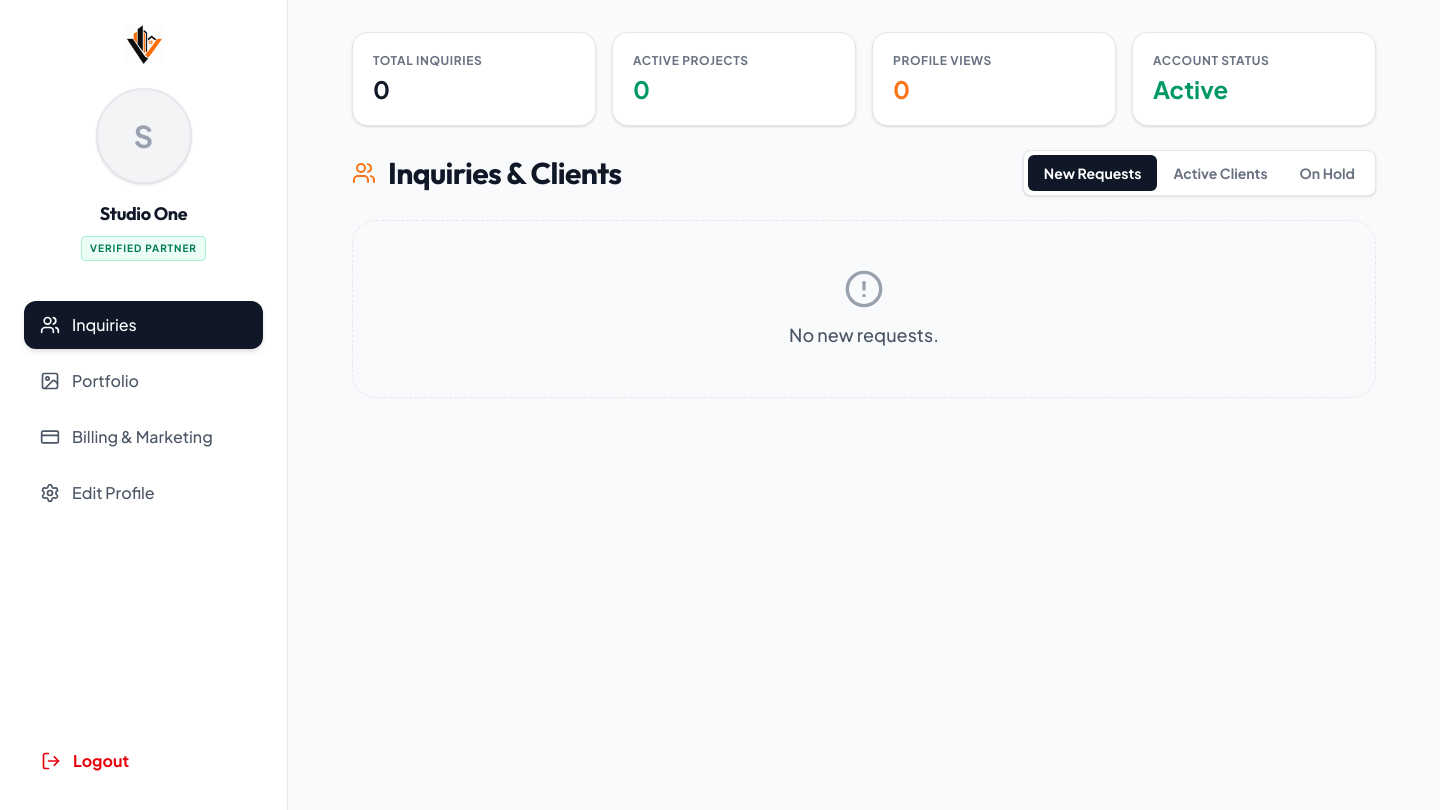
Test: existing full designer profile editor inside the dashboard › shows the compact review status only on the Profile tab and removes it after verification
Later steps or results of the test are not shown.
Check: the heading "Inquiries & Clients" is shown, box [352,155,621,191]
Check: the heading "Professional Profile Under Review" is not shown
Click the button "Edit Profile" at [144, 493], box [24,469,263,517]
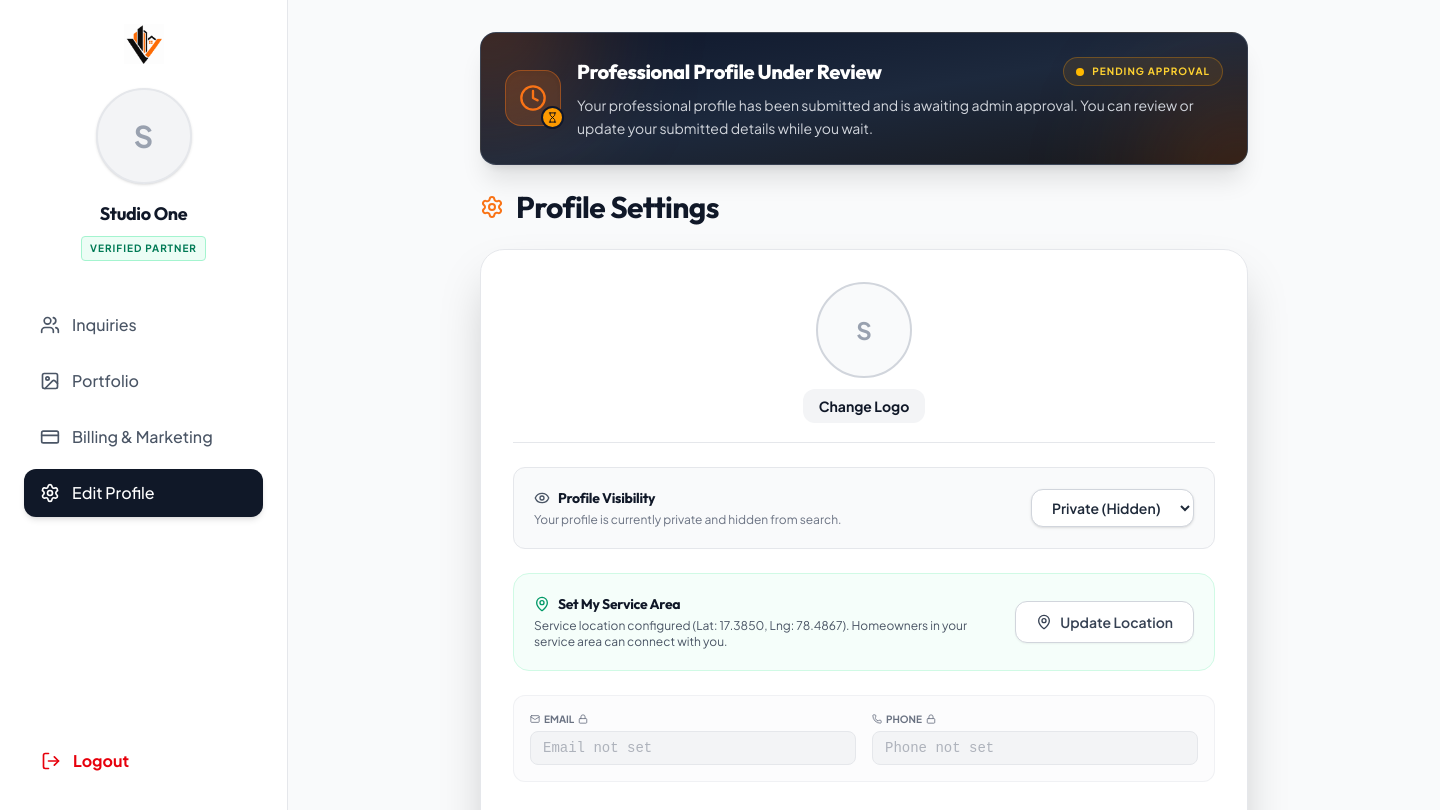
Check: the heading "Professional Profile Under Review" is shown, box [577,58,882,86]
Click the button "Portfolio" at [144, 381], box [24,357,263,405]
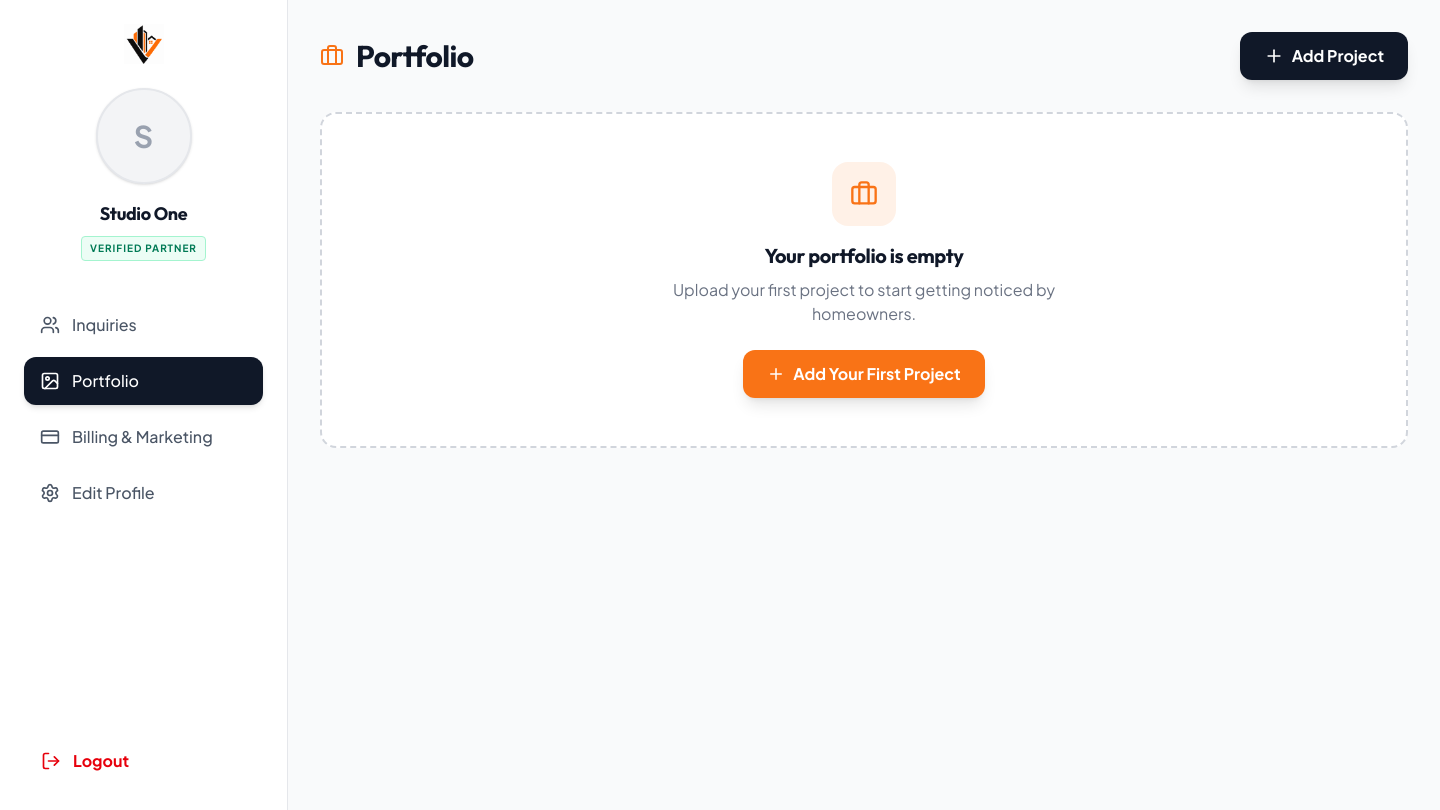
Check: the heading "Professional Profile Under Review" is gone
Click the button "Edit Profile" at [144, 493], box [24,469,263,517]
(page scrolled)
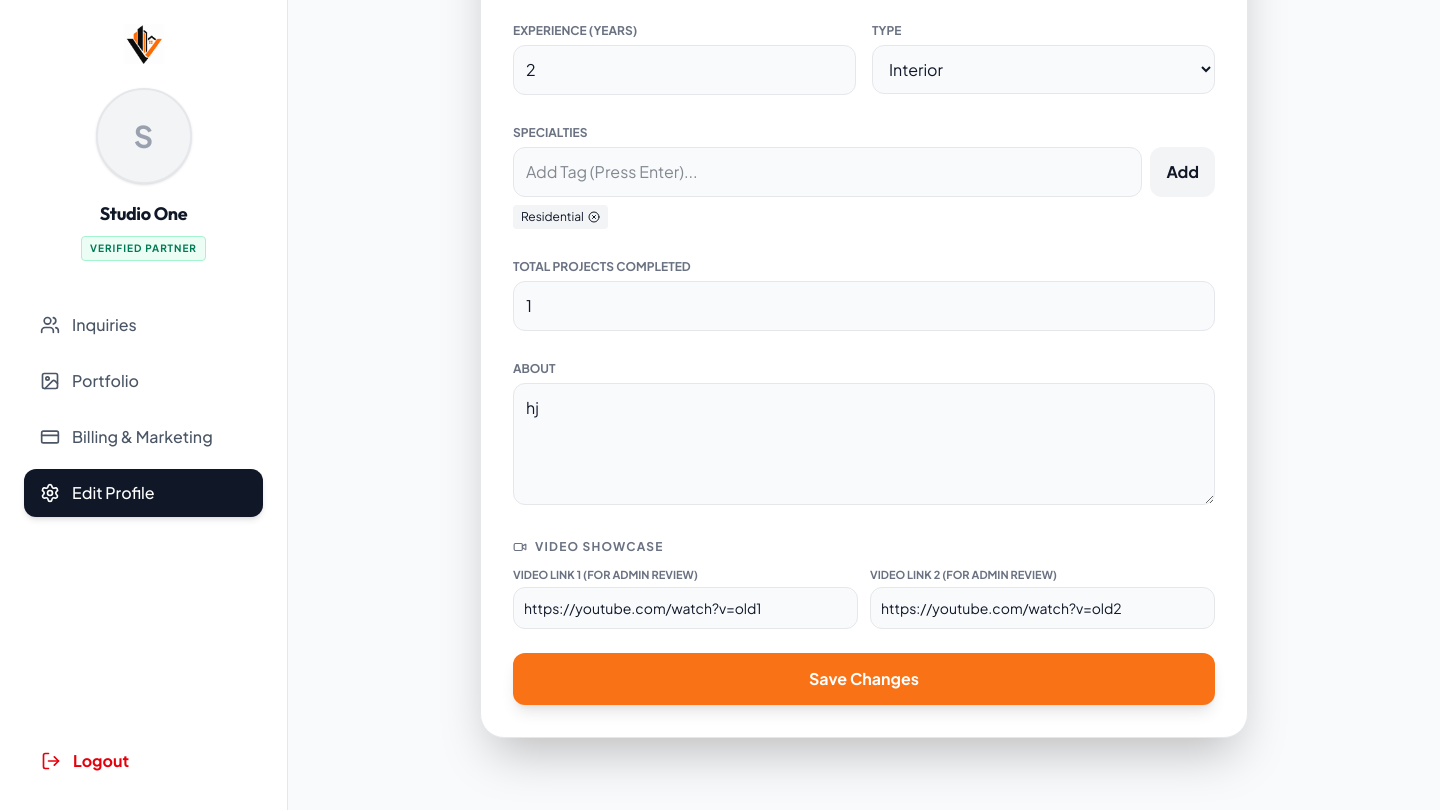
Replace the text in the text box showing "hj" with "Updated while under review" at [864, 444], box [513,382,1215,504]
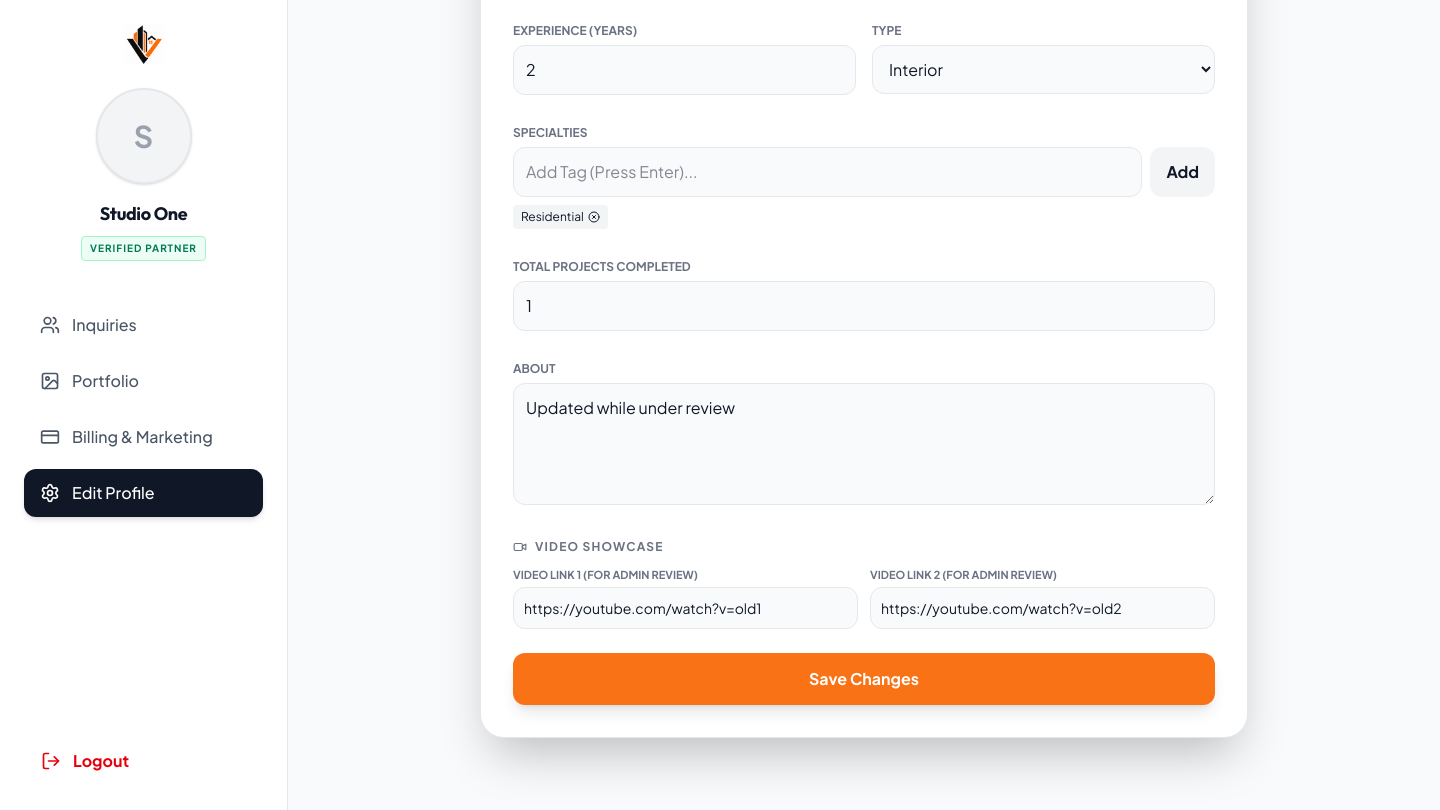
Click the button "Save Changes" at [864, 679], box [513,653,1215,705]
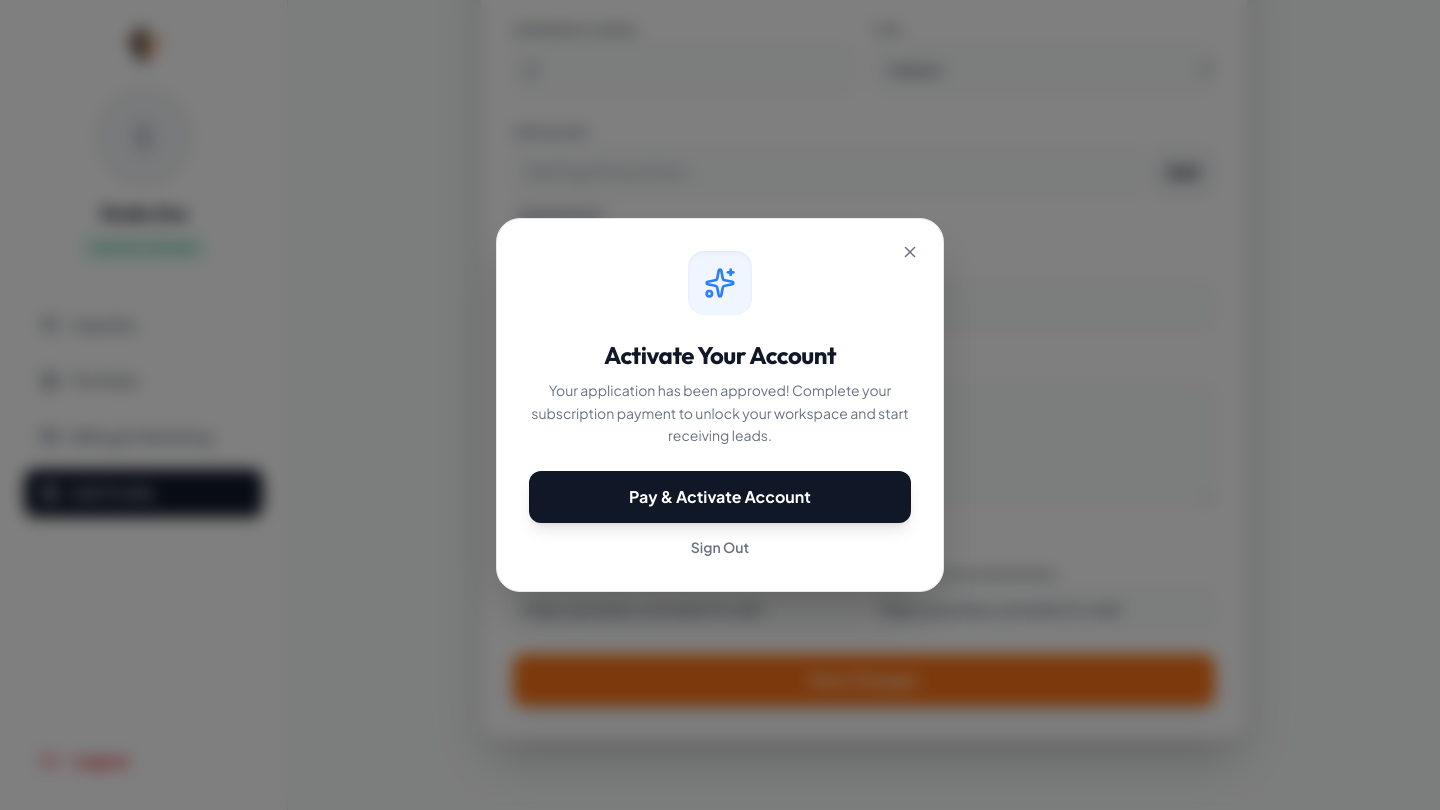
Check: the heading "Professional Profile Under Review" is not shown
Check: the dialog is shown, box [496,218,944,592]
Check: the heading "Activate Your Account" is shown, box [604,340,836,370]
